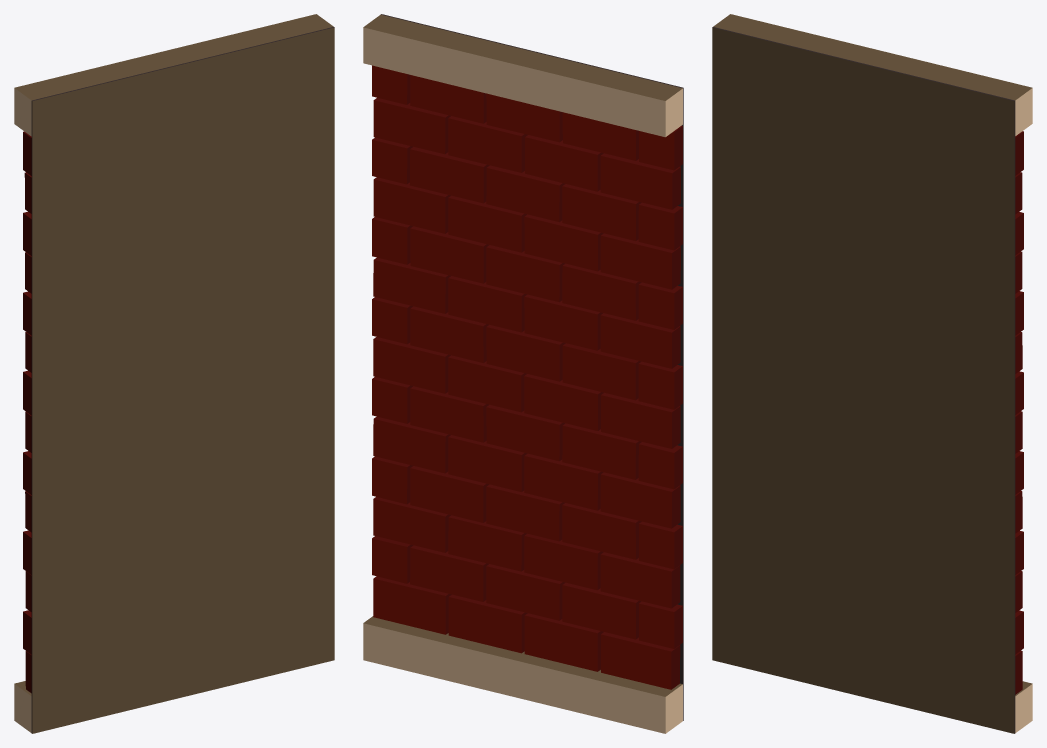
File: MidWall.fbx
3 views of the same model, side by side, from view 1: azimuth 30°, elevation 25°; view 2: azimuth 150°, elevation 25°; view 3: azimuth 330°, elevation 25° (orthographic).
Parts seen in each view (by area): view 1: MurCentro; view 2: MurCentro; view 3: MurCentro.
Boxes of the visible parts, x1,y1,x2,y2 form: MurCentro: (14, 14, 334, 733); MurCentro: (363, 14, 683, 733); MurCentro: (712, 14, 1032, 733).
Size of the model in its own units: 200 by 400 by 20.95.
